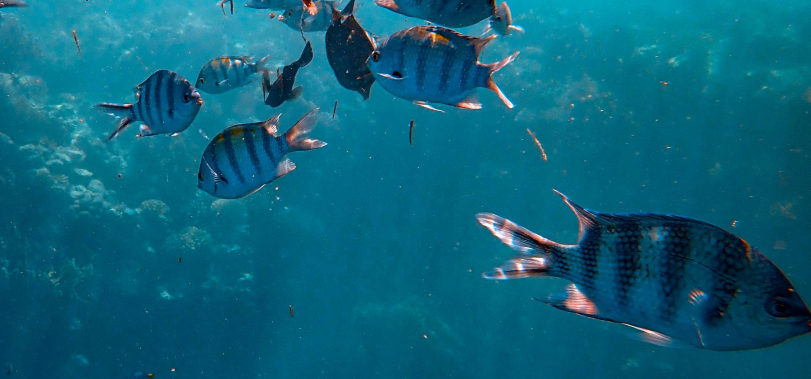fishLarge: (262, 42, 313, 108)
fishRound: (475, 189, 808, 356), (365, 24, 521, 115), (196, 107, 328, 200), (92, 70, 201, 143), (325, 15, 381, 101), (193, 51, 270, 95)
